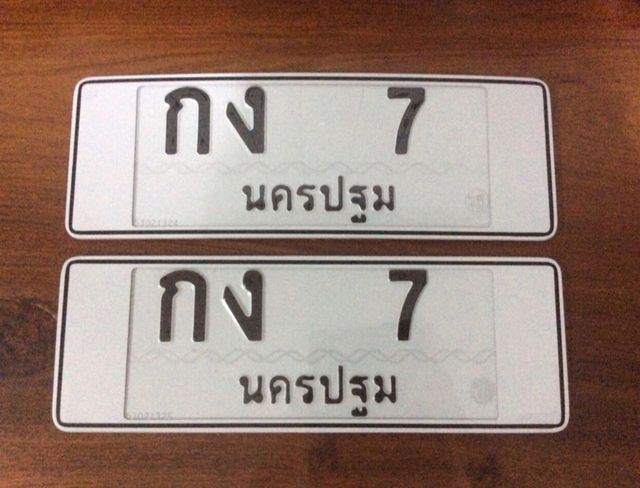Non-Bangkok: (231, 359, 408, 420), (229, 170, 405, 224)
